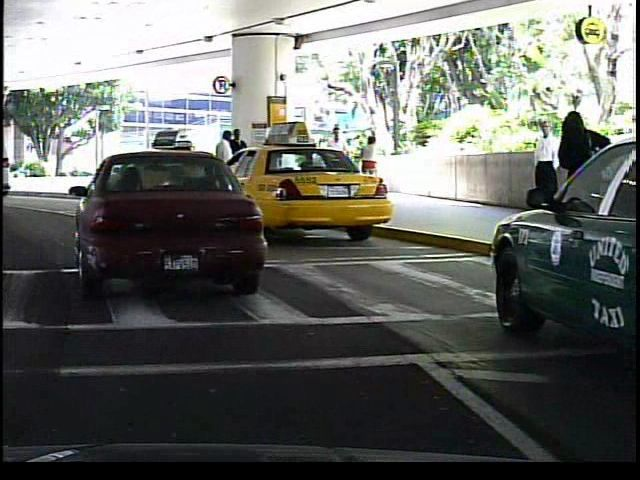person: (552, 104, 609, 258), (522, 112, 563, 225), (320, 122, 351, 196), (210, 127, 237, 200), (355, 130, 382, 193), (229, 125, 249, 196)
